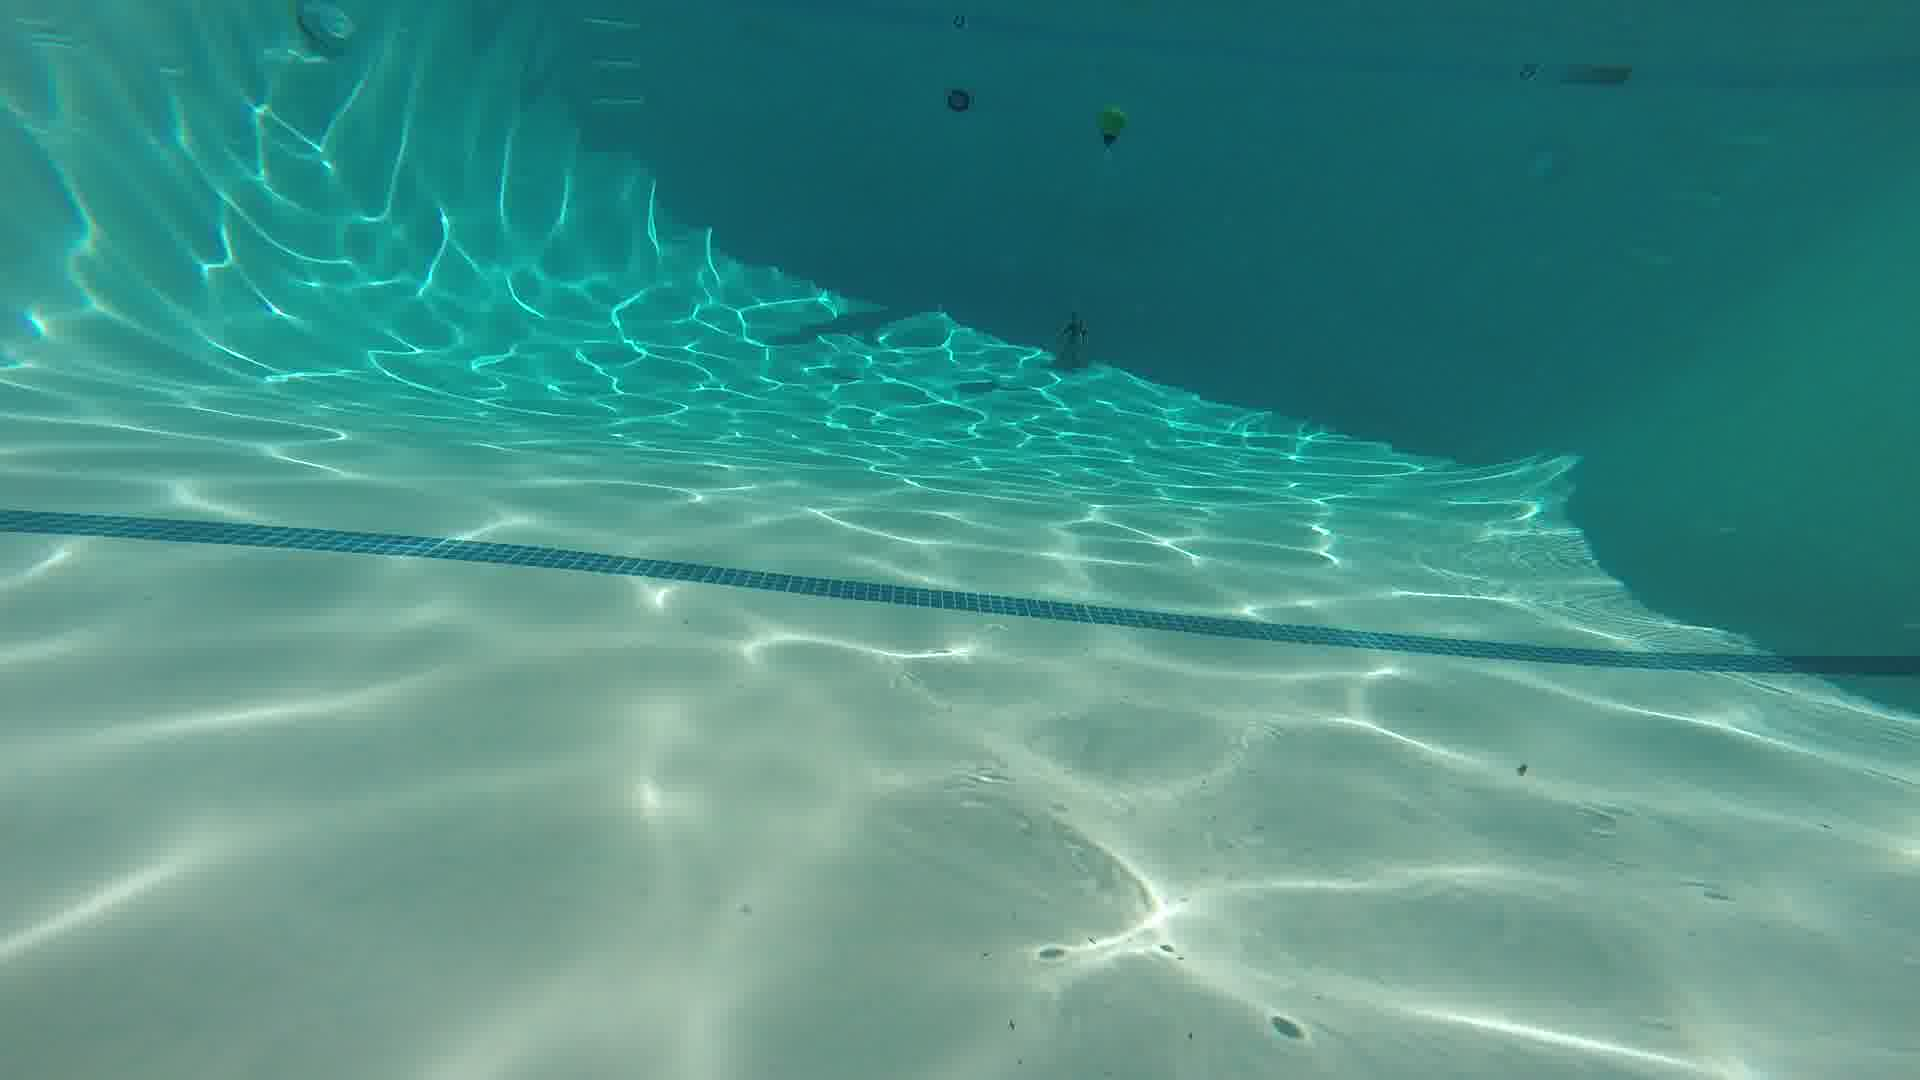yellow_buoy: (1093, 99, 1127, 152)
